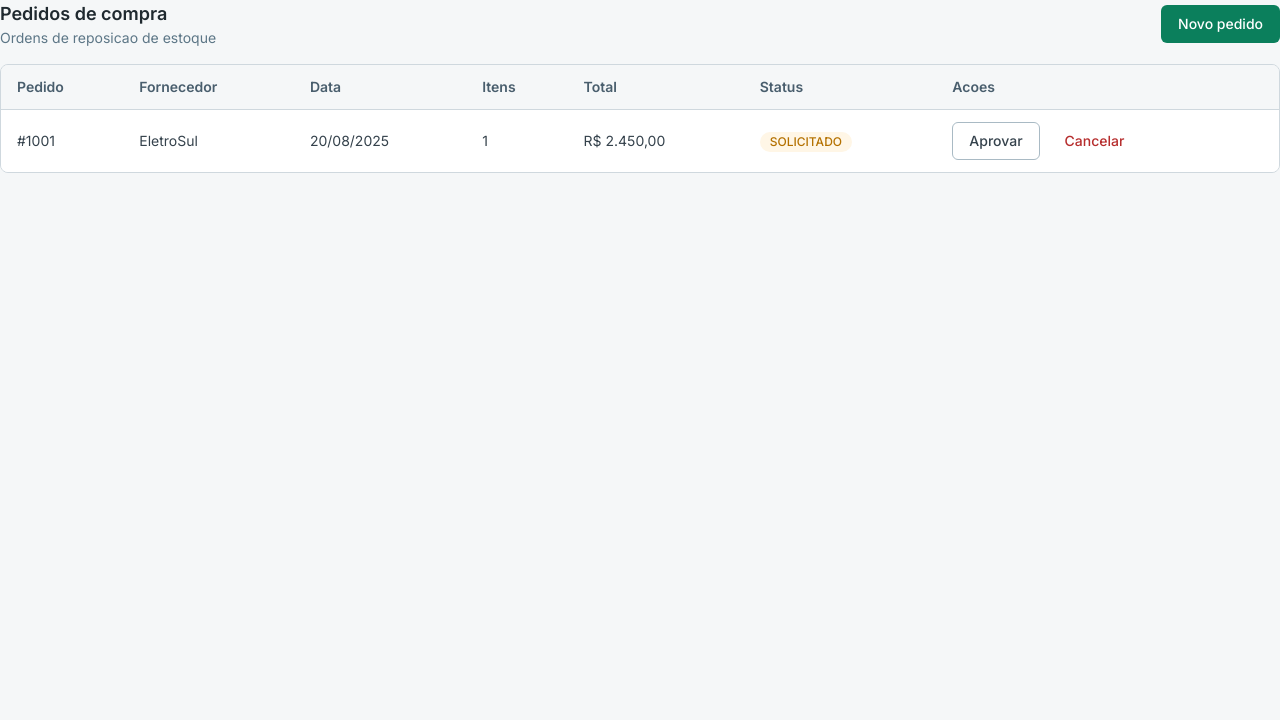
it: Compras › exibe erro quando a criacao do pedido falha
The width and height of the screenshot is (1280, 720).
Expected: the text "#1001" is shown, [1,110,123,172]
Click the button "Novo pedido" at (1221, 24), box [1161,5,1279,43]
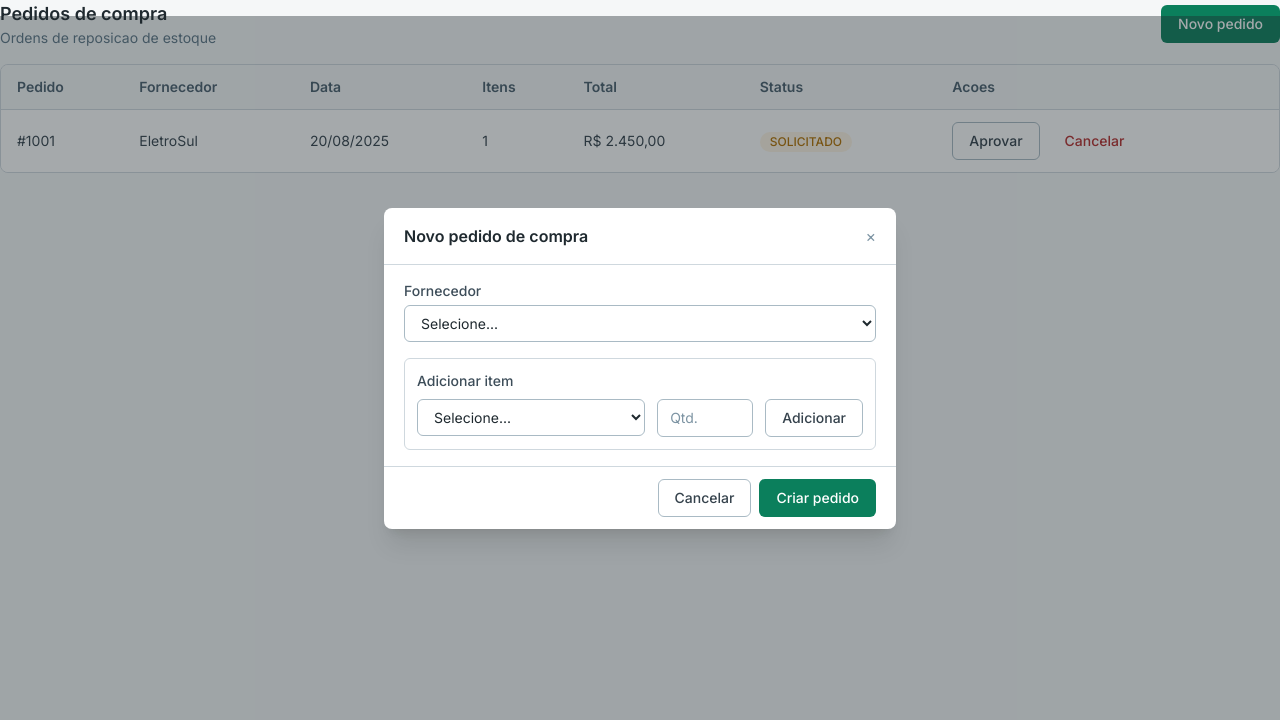
Expected: the dialog is shown, [384,208,896,528]
Select "EletroSul" in the dropdown labelled "Fornecedor" at (640, 323), box [404,304,876,342]
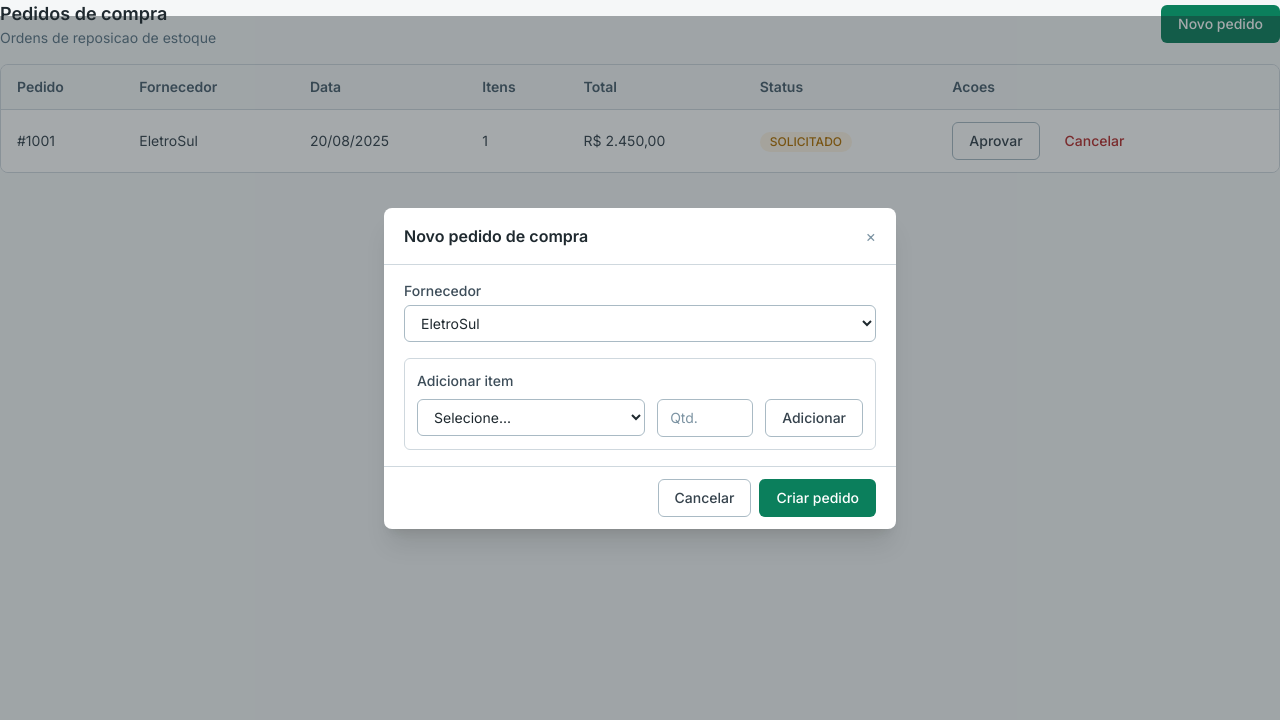
Select "Cabo Flexivel" in the dropdown named "Produto do item" at (531, 417), box [417,398,645,436]
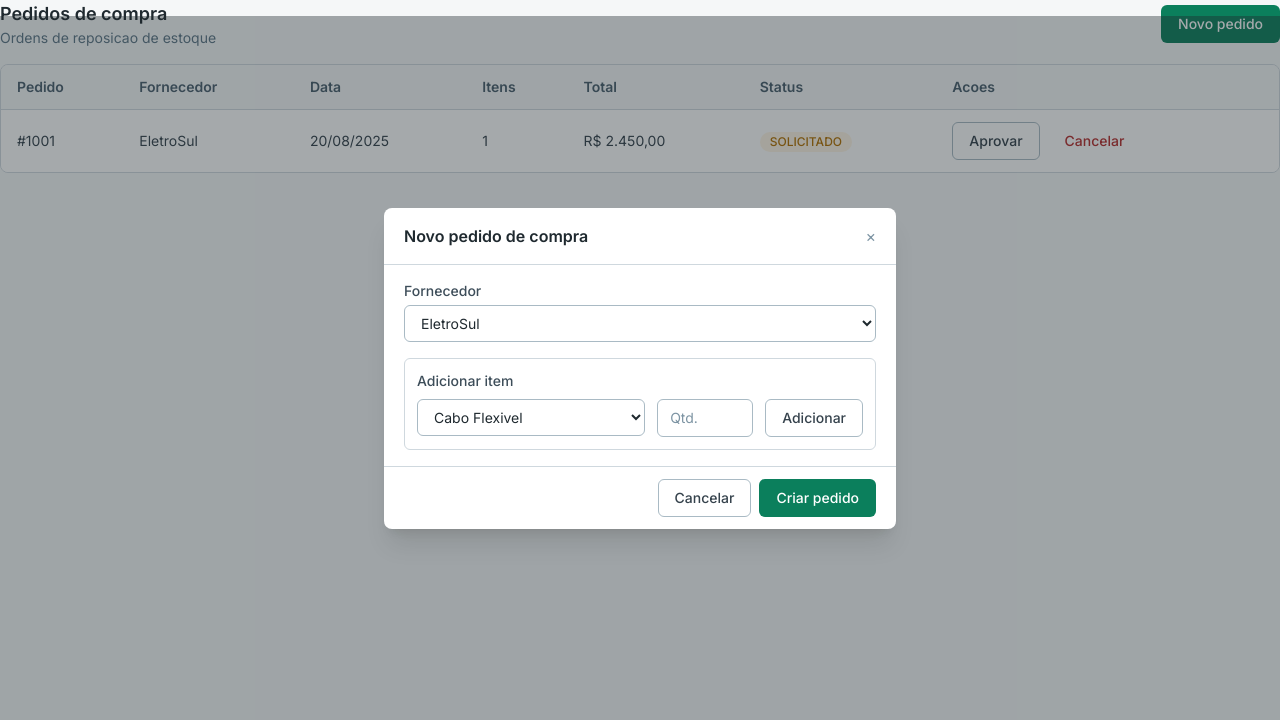
Type "5" into the number field named "Quantidade do item" at (705, 418), box [657,398,753,436]
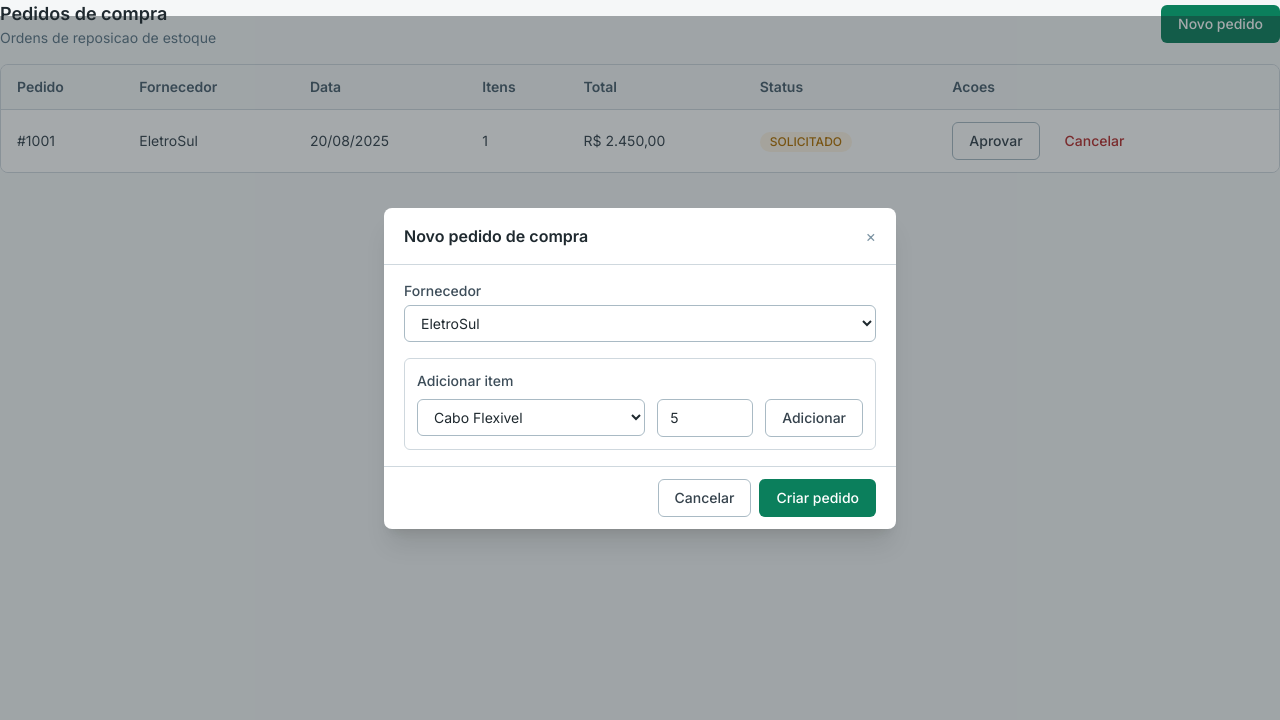
Click the button "Adicionar" at (814, 418), box [765,398,863,436]
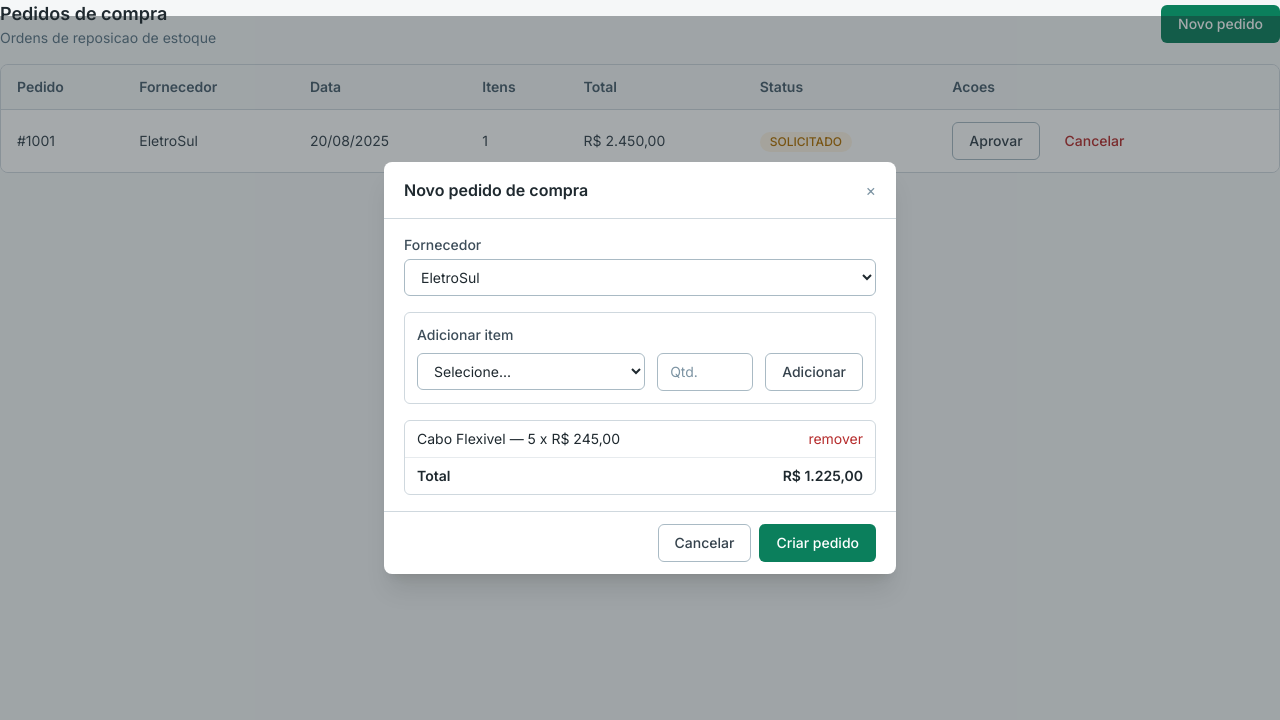
Expected: the button "remover" is shown, [808,429,863,449]
Click the button "Criar pedido" at (818, 543), box [759,524,876,562]
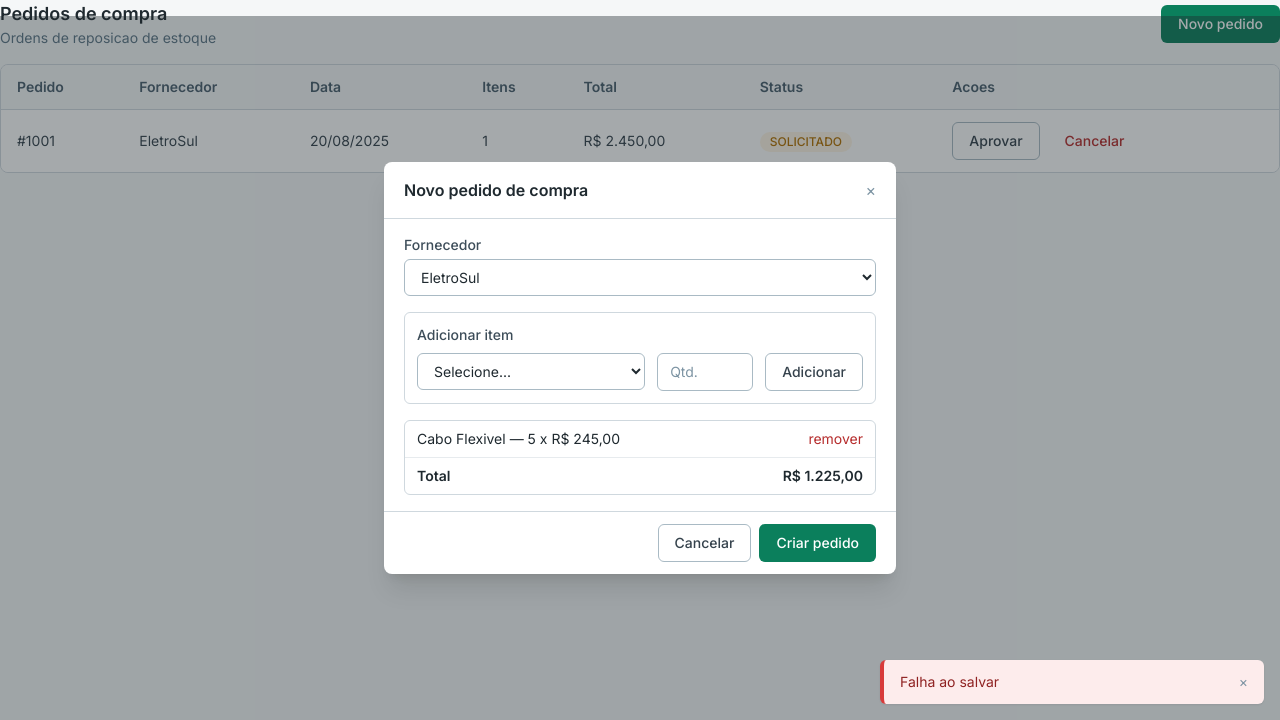
Expected: the text "Falha ao salvar" is shown, [900,672,999,692]
